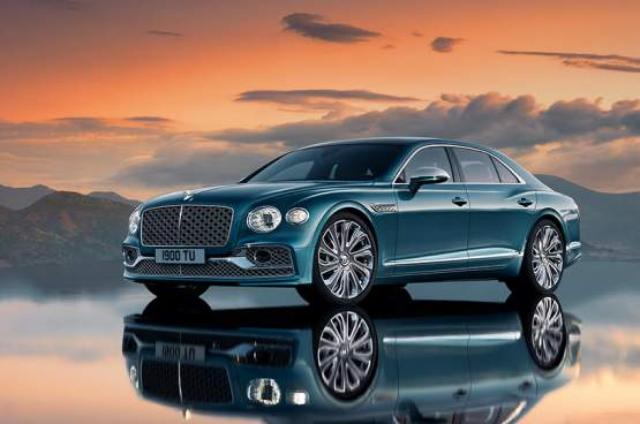bentley: (122, 136, 584, 304)
